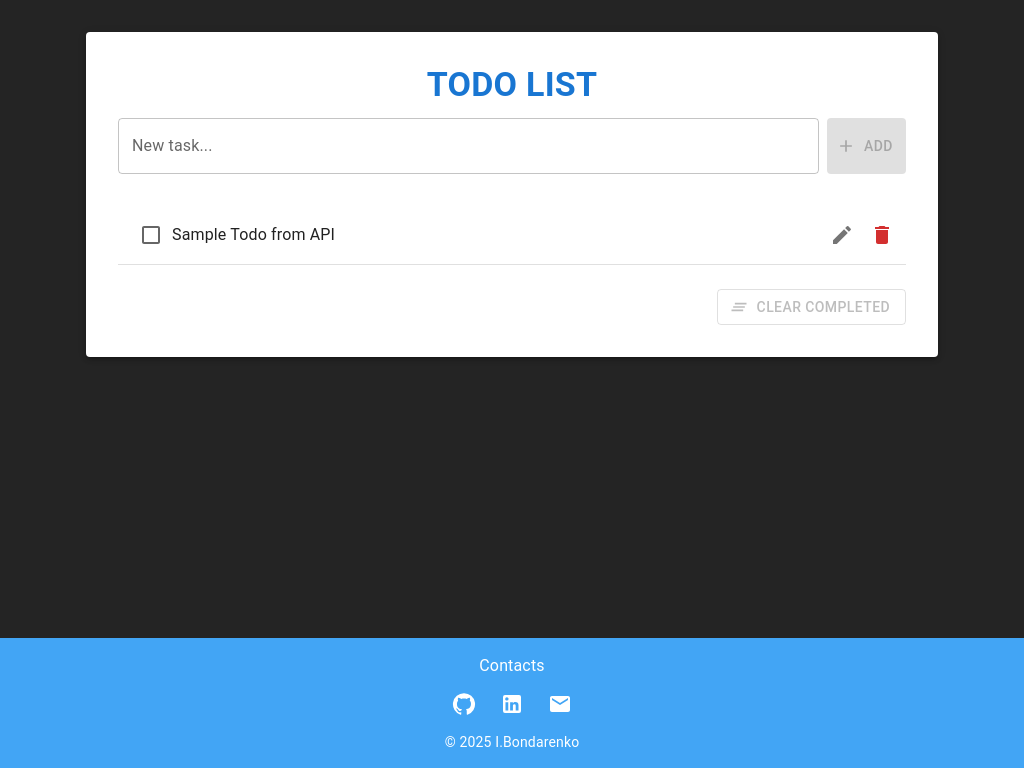
Видалення завдання прибирає його зі списку
Click the button named "delete".
click(882, 235)  # box [862, 215, 902, 255]
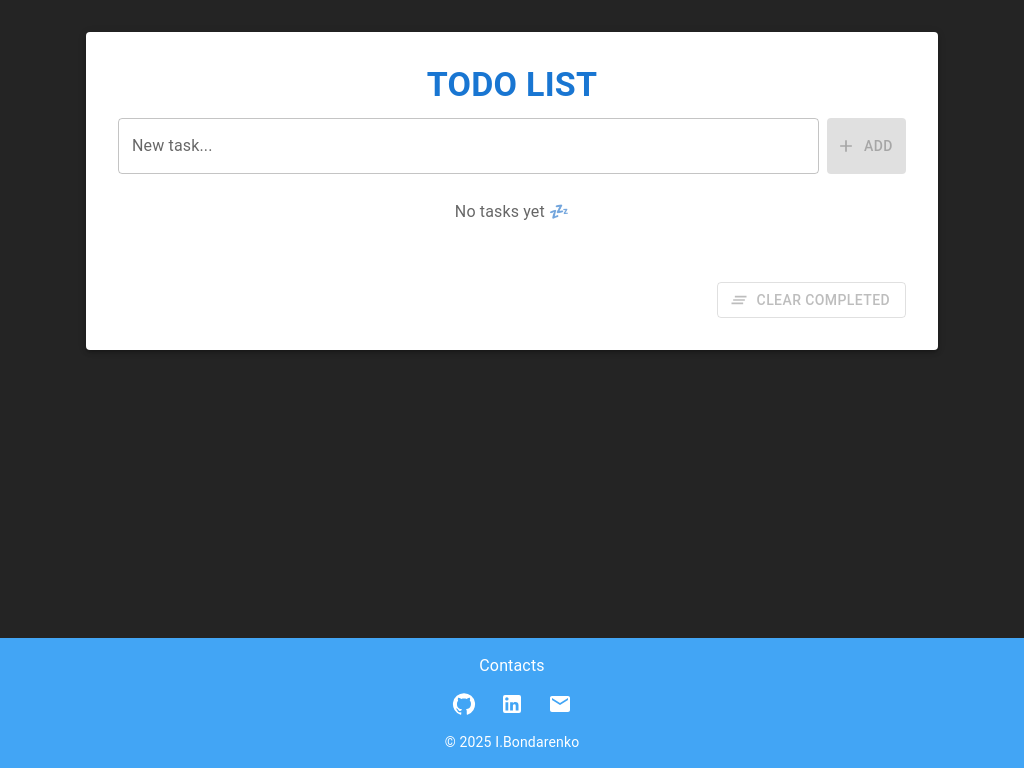
Now the text "Sample Todo from API" is gone
Now the heading "No tasks yet 💤" is shown, box [455, 202, 569, 221]
